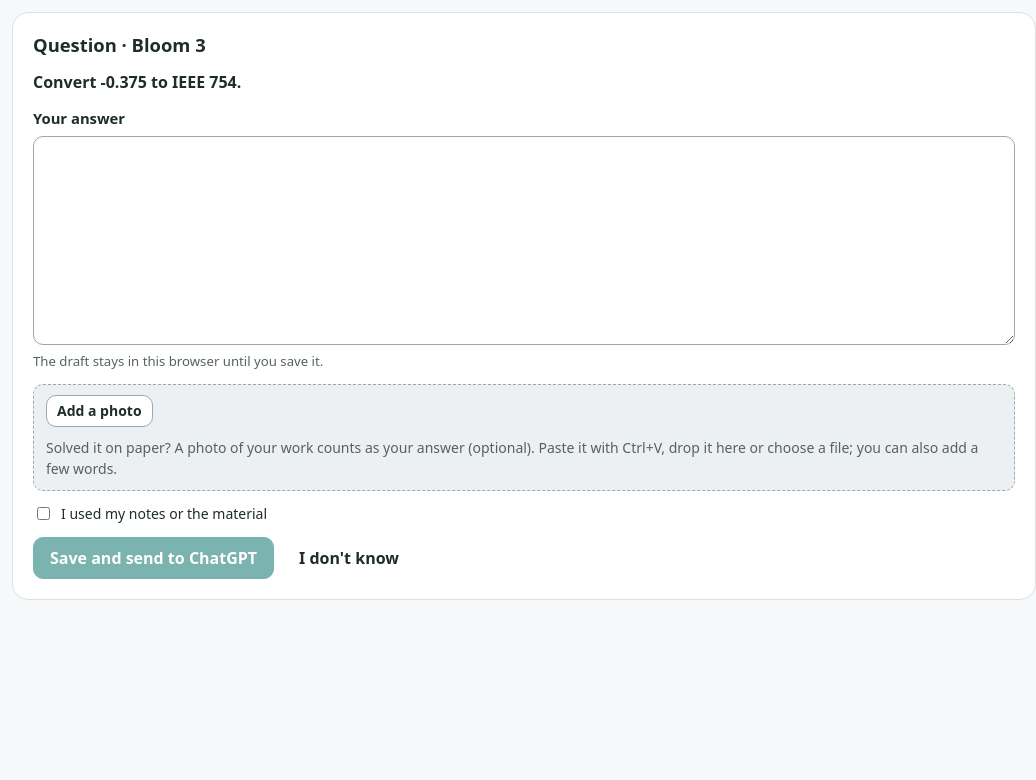
Scenario: the answer form swaps I don't know for Unsure once there is an answer and saves the mark (2026-11-26)
The image size is (1036, 780).
Expected: the button "I don't know" is shown, [282,537,416,579]
Expected: the button "Unsure" is not shown
Type "1 01111101 1000…, I think" into the text box at (524, 240), box [33,136,1015,345]
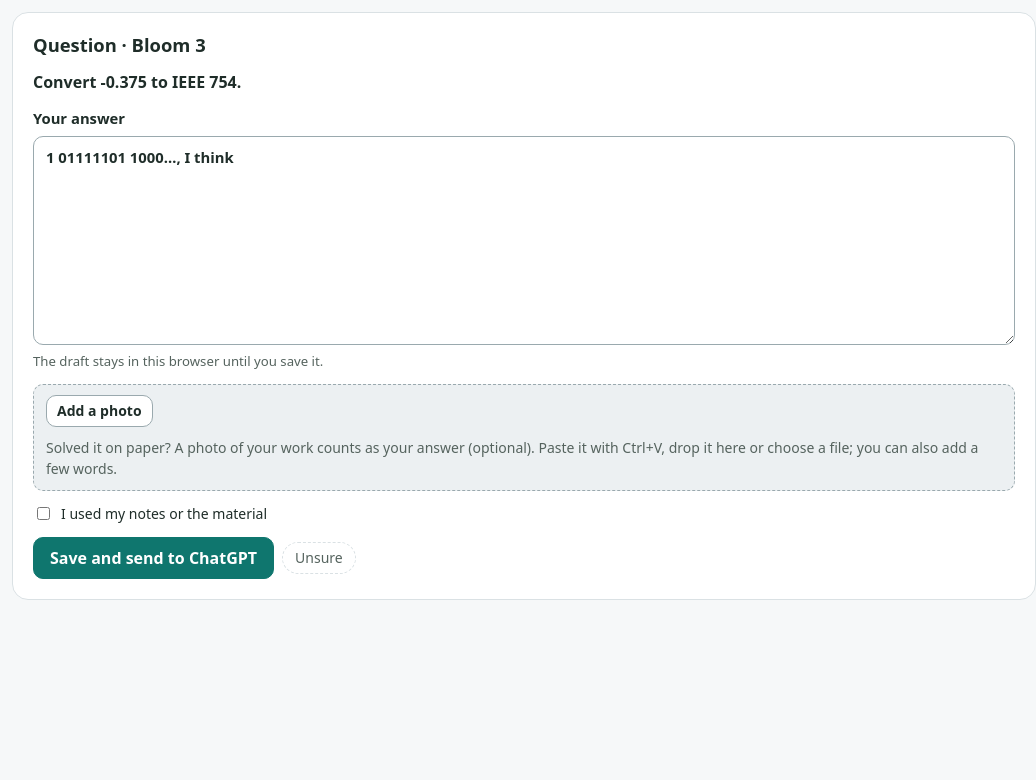
Now the button "I don't know" is gone
Click the button "Unsure" at (319, 558), box [282,542,356,574]
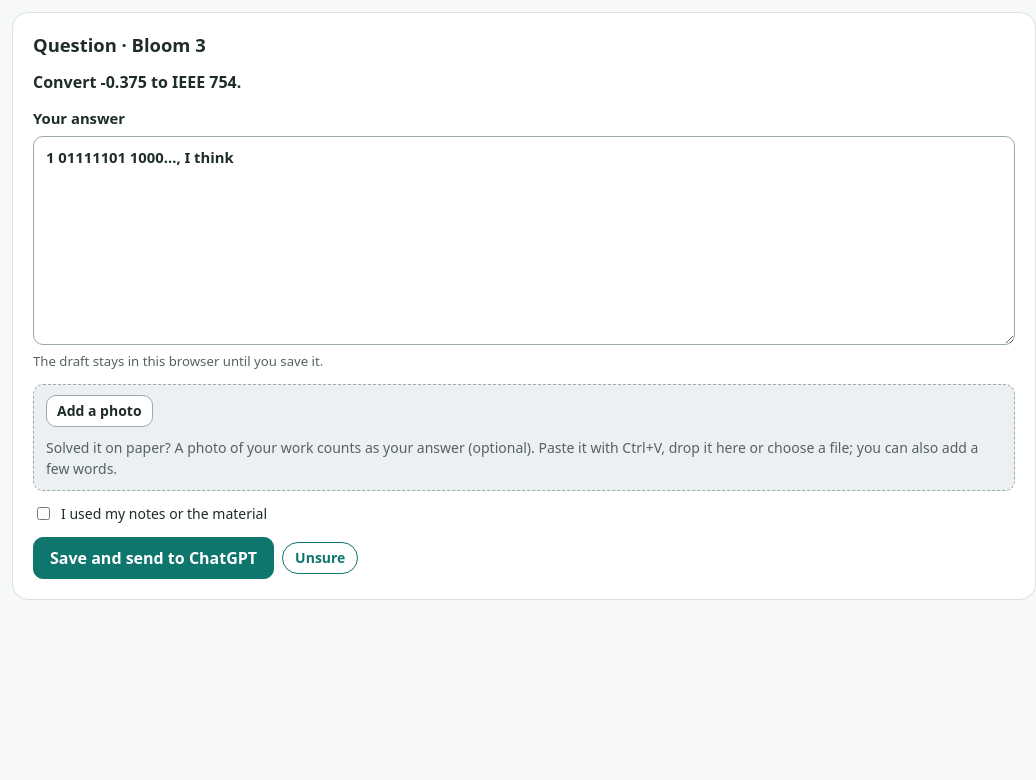
Now the button "Unsure" is pressed, box [282,542,358,574]
Click the button "Save and send to ChatGPT" at (154, 558), box [33,537,274,579]
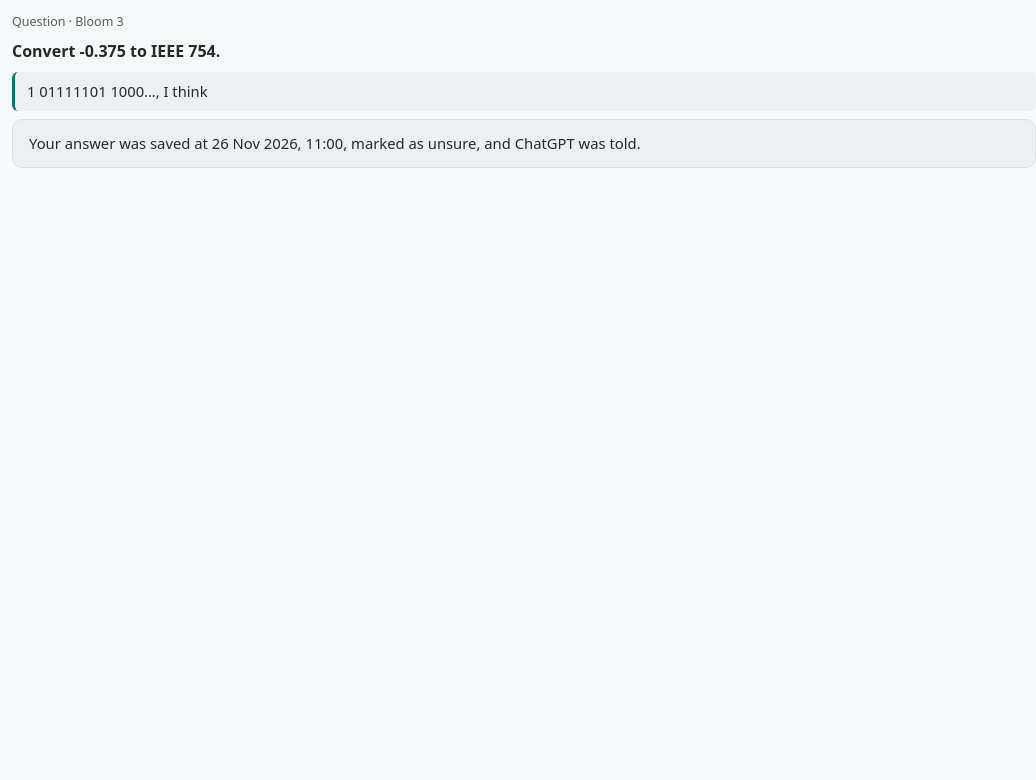
Now the message shows "marked as unsure", box [343,133,480,153]
